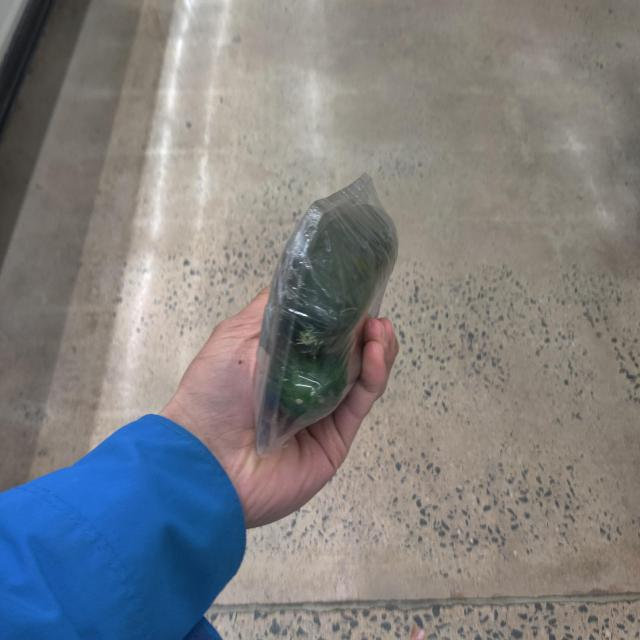Cucumber: (246, 162, 420, 465)
